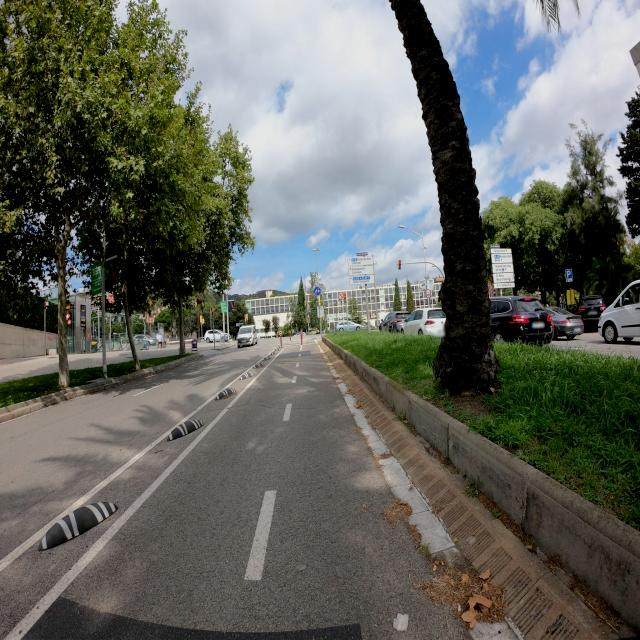car: (488, 295, 554, 345), (598, 276, 640, 347), (400, 306, 447, 339), (543, 305, 584, 341), (579, 294, 608, 331), (378, 310, 412, 333), (236, 325, 258, 348), (132, 333, 156, 349), (204, 329, 231, 343), (334, 320, 361, 332)
